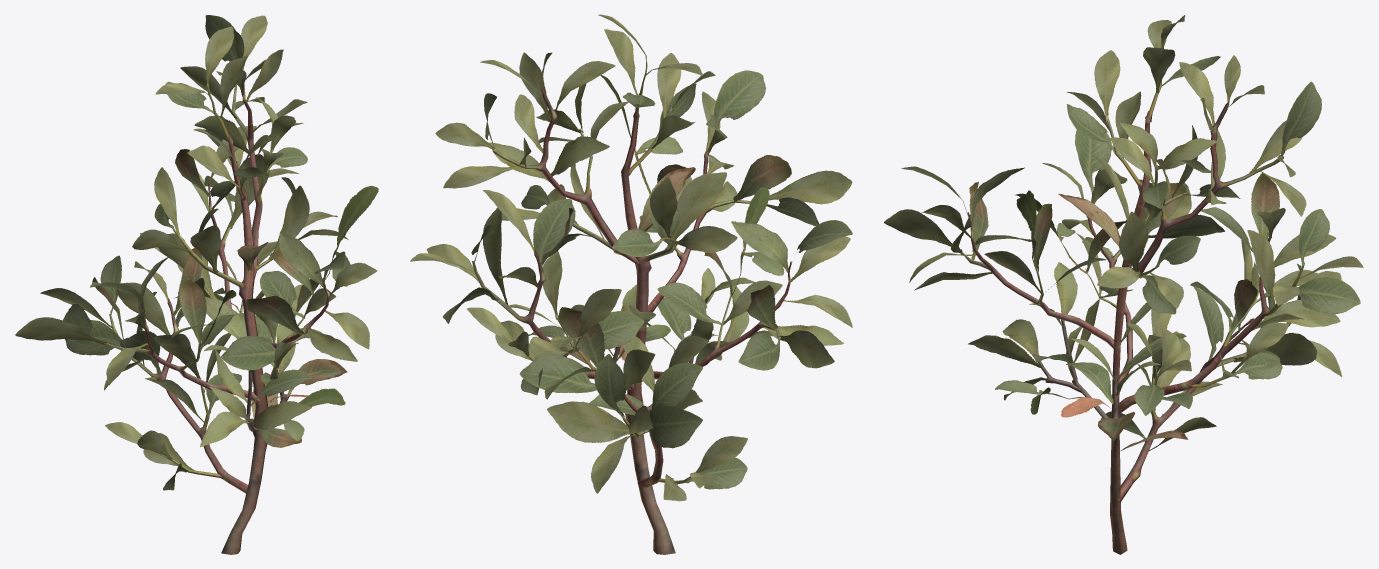
3 views of the same model, side by side, from view 1: azimuth 30°, elevation 25°; view 2: azimuth 150°, elevation 25°; view 3: azimuth 270°, elevation 25° (orthographic). The views are drawn at different scales.
Visible parts, largest first — view 1: shrub_04__a_lod0; view 2: shrub_04__a_lod0; view 3: shrub_04__a_lod0.
Boxes of the visible parts, x1,y1,x2,y2 form: shrub_04__a_lod0: (15, 15, 378, 554); shrub_04__a_lod0: (410, 14, 852, 554); shrub_04__a_lod0: (884, 15, 1363, 554).
Size of the model in its own units: 0.1116 by 0.1623 by 0.1301.
1 material, 1 textured.
